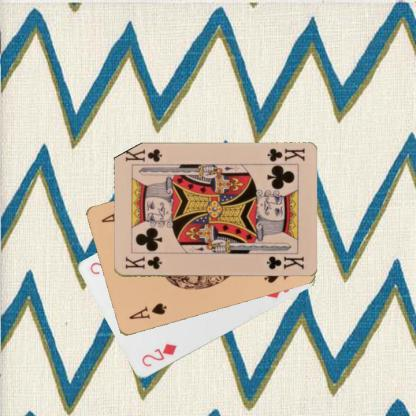2d: (139, 341, 178, 368)
As: (126, 300, 168, 322)
Kc: (264, 146, 306, 163), (122, 254, 163, 270)
